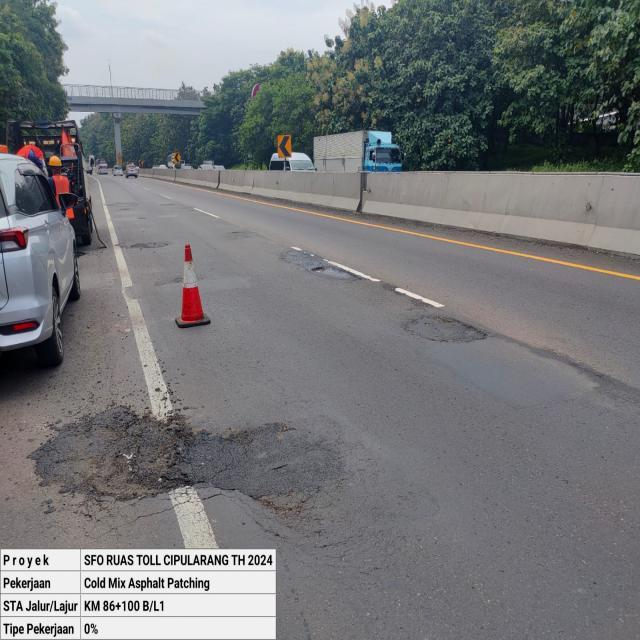Buraco: (308, 264, 364, 282), (128, 241, 170, 250)
